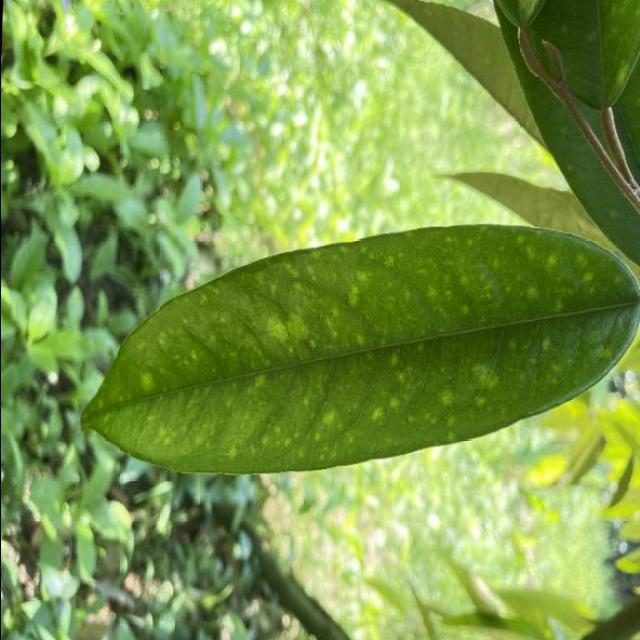Leaf Spot: (78, 200, 640, 492)
